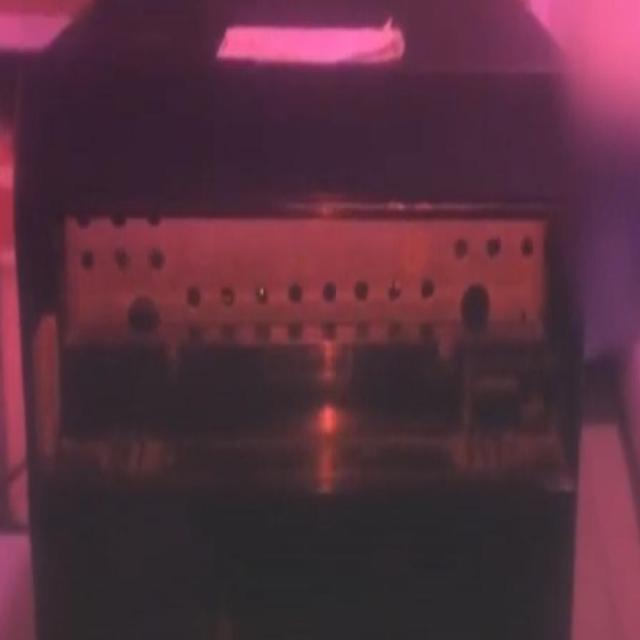hidden camera: (251, 276, 273, 306)
